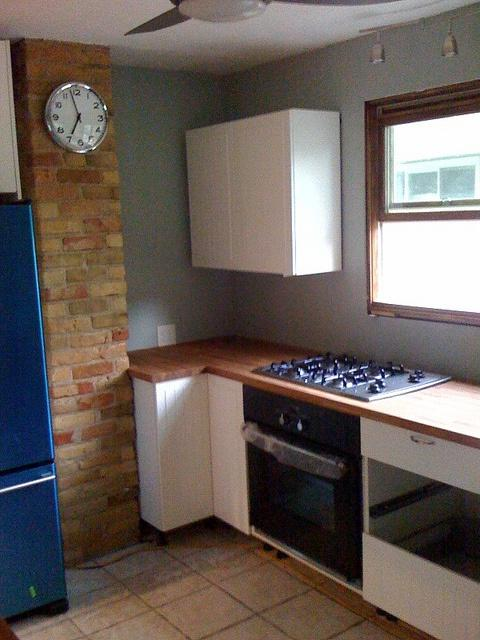Lemari: (182, 108, 294, 276)
